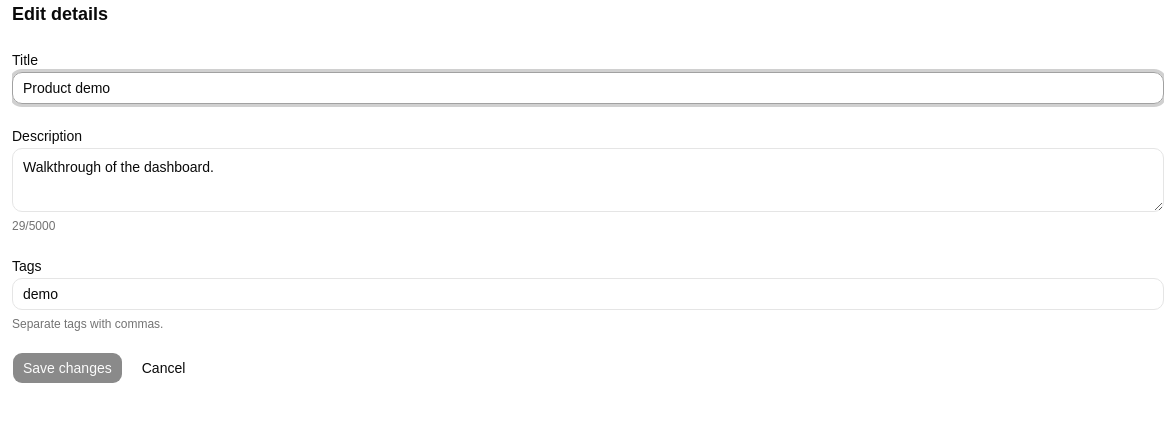
Test case: MediaEditForm › shows validation errors only after submitting, and does not save
Clear the field labelled "Title" at (588, 88), box 12,72 -> 1164,104
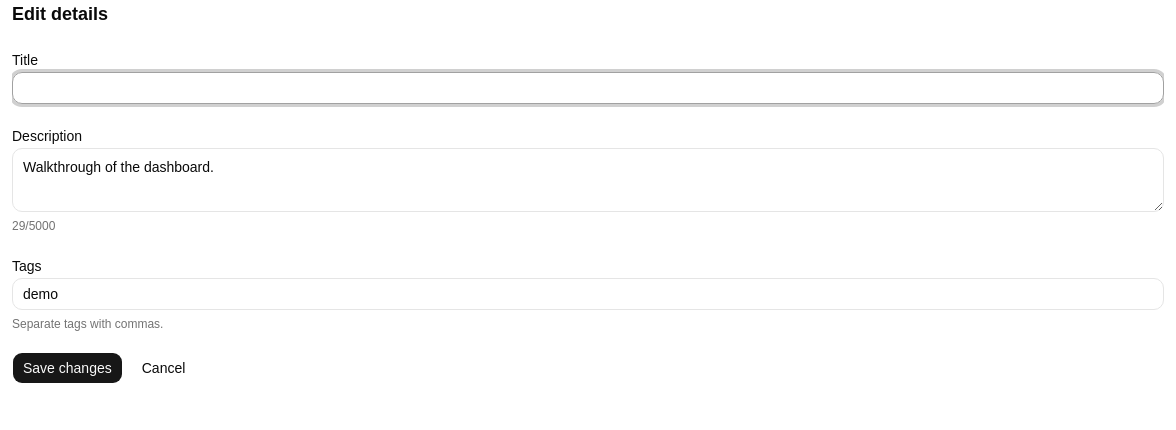
Expected: the text "Title is required." is not shown
Click the button "Save changes" at (67, 368), box 12,352 -> 123,384
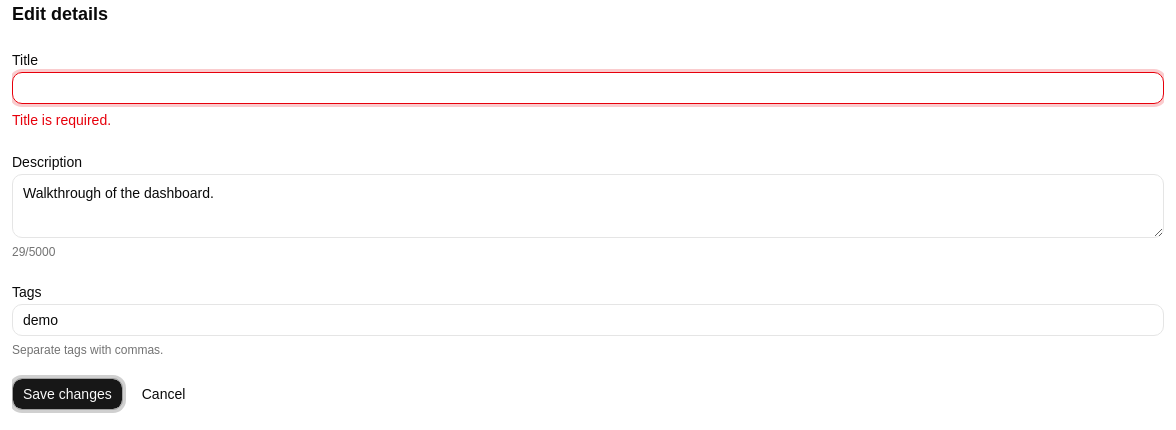
Expected: the text "Title is required." is shown, 12,112 -> 111,128
